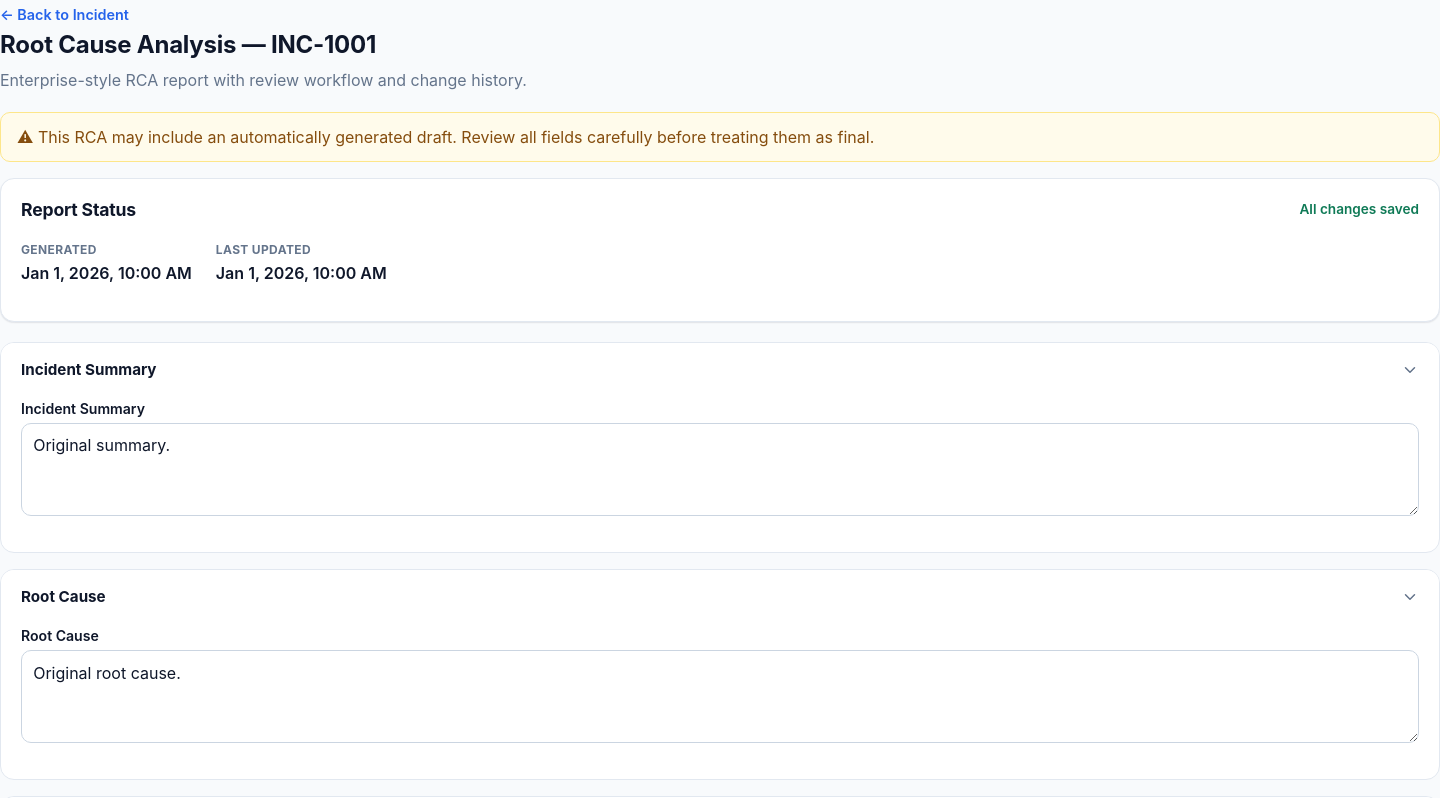
Test: RcaPage save flow › shows the saved values and the new updatedAt without a manual refresh
Replace the text in the text box labelled "Root Cause" with "TTL misconfiguration in the cache layer.": (720, 697) [21,650,1419,743]
(page scrolled)
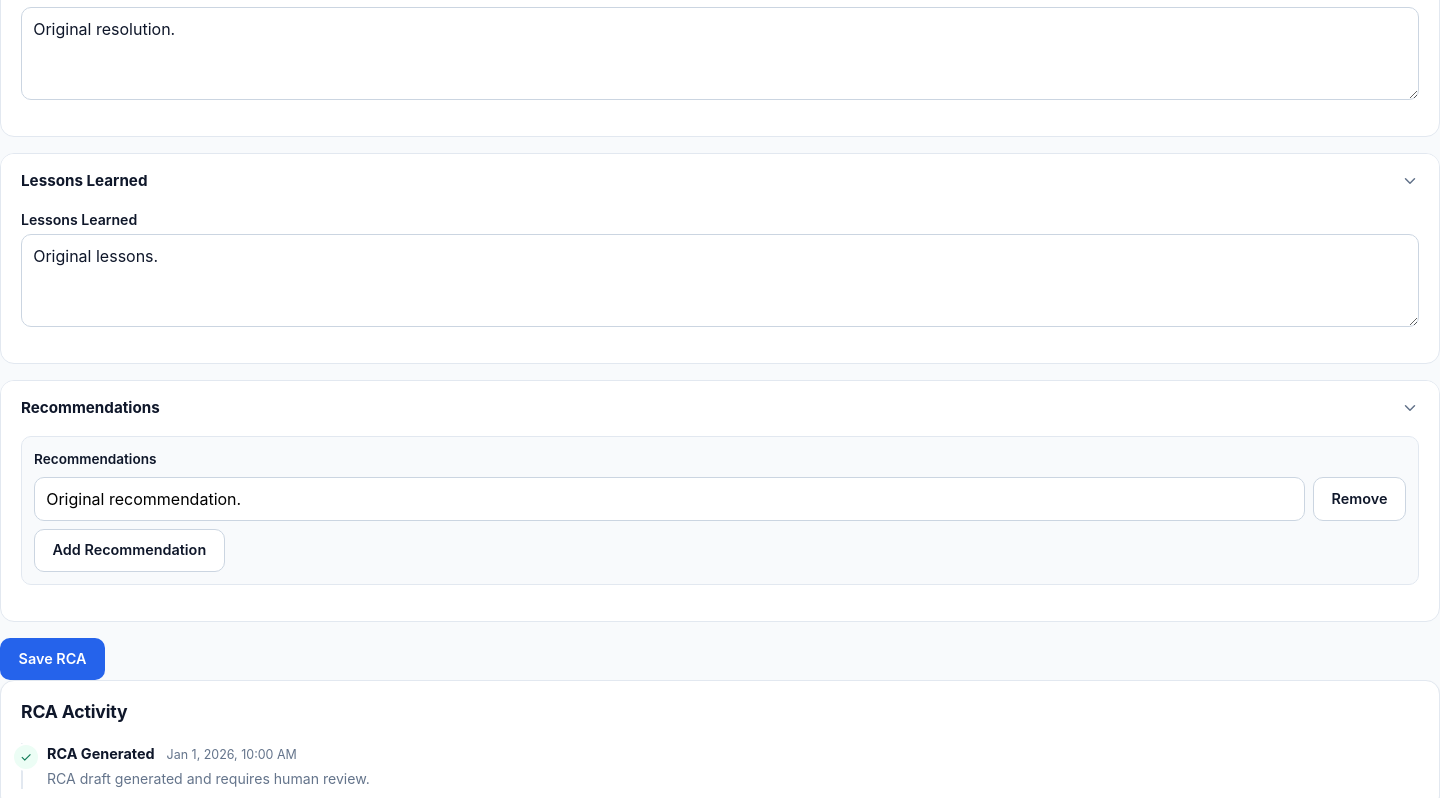
Click the button "Save RCA": (52, 659) [0,638,105,680]
(page scrolled)
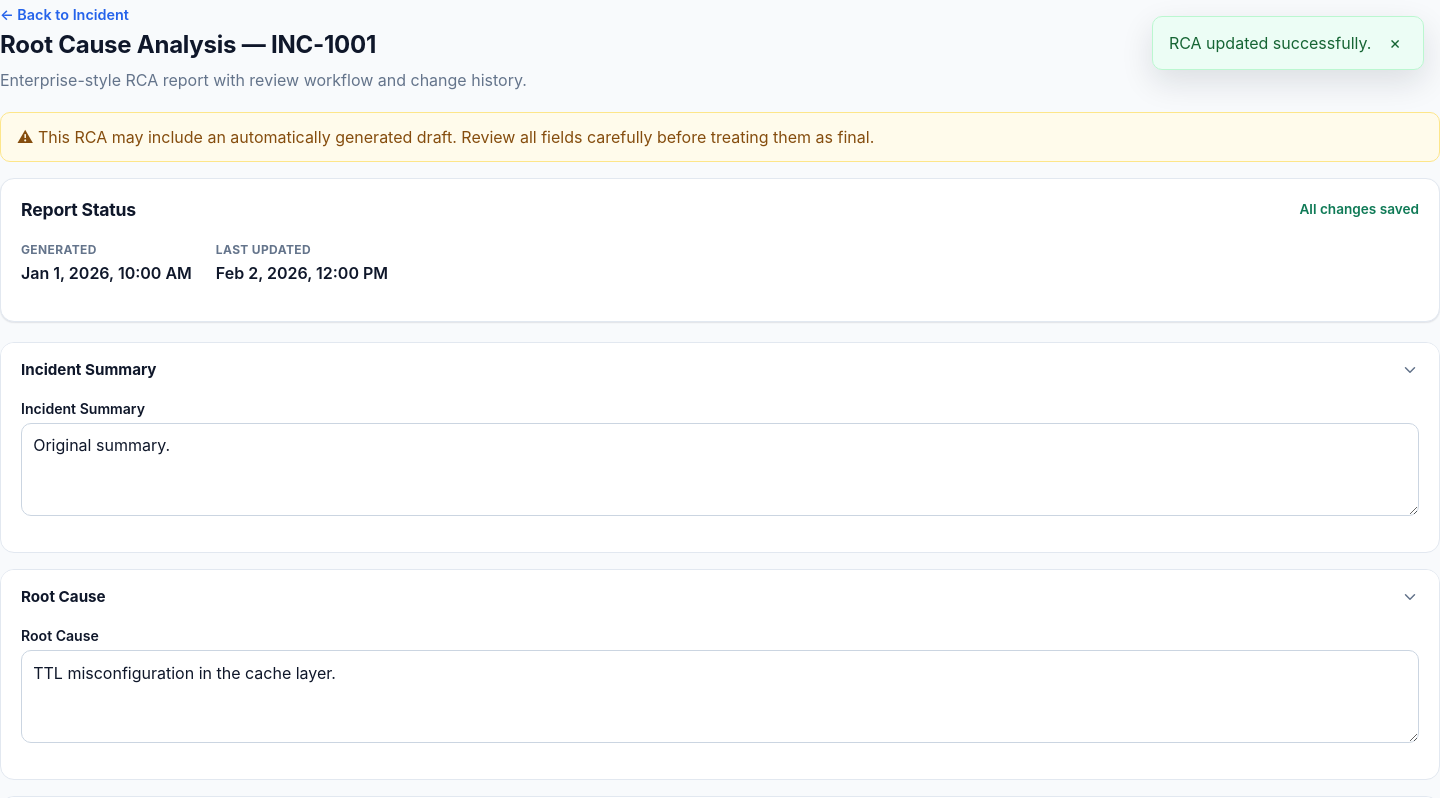
Now the text "RCA updated successfully." is shown, box [1169,31,1371,55]
Now the text "Feb 2, 2026, 12:00 PM" is shown, box [216,261,388,285]
